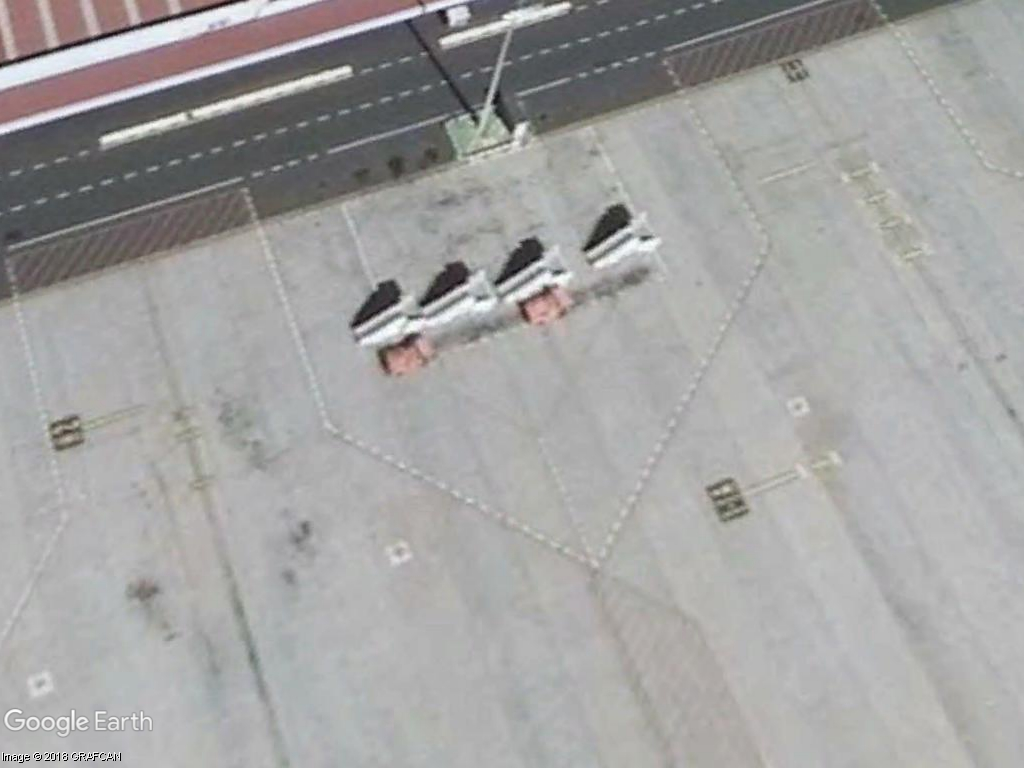stairtruck: (405, 262, 504, 338), (574, 210, 670, 275), (488, 243, 581, 309), (343, 290, 431, 352)
